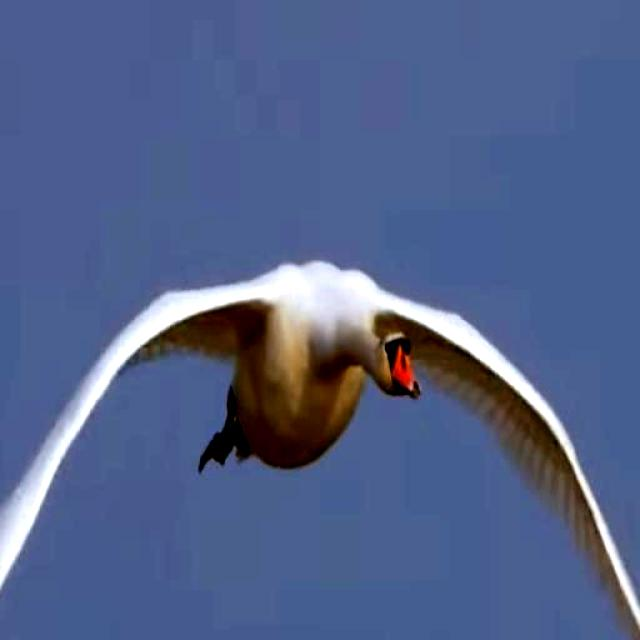airplane: (0, 241, 640, 640)
